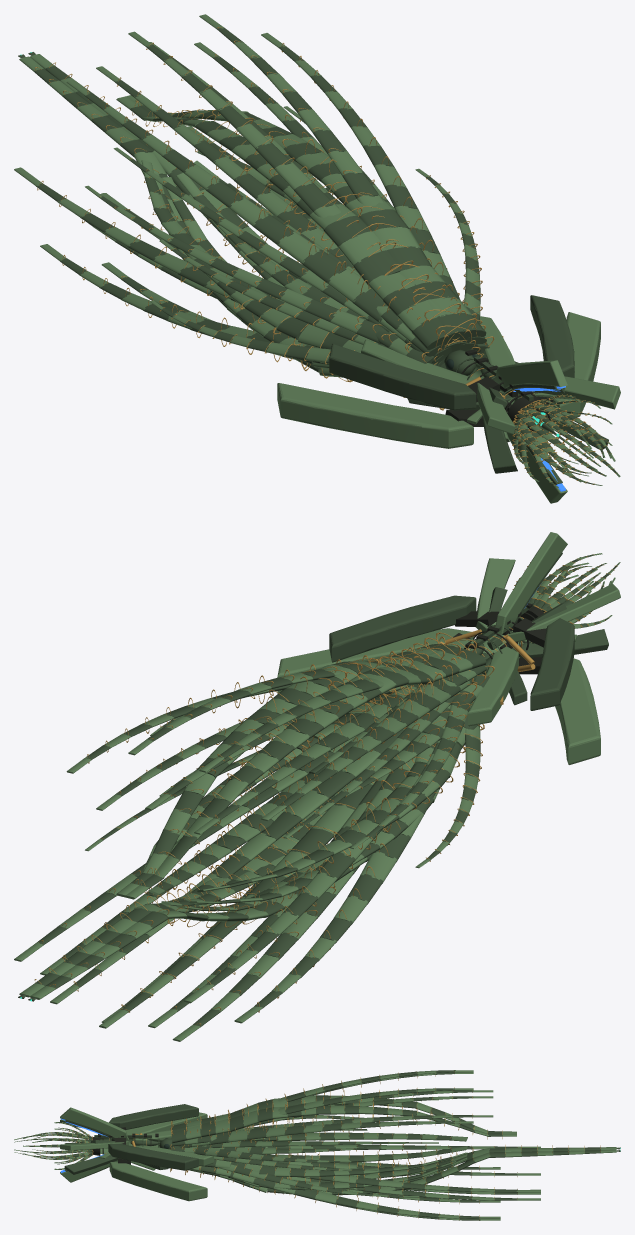
Rendered from kharath-destroyer-lod1.glb.
3 views of the same model, one above another, from view 1: azimuth 30°, elevation 25°; view 2: azimuth 150°, elevation 25°; view 3: azimuth 270°, elevation 25° (orthographic). The views are drawn at different scales.
Size of the model in its own units: 56.83 by 43.46 by 179.
